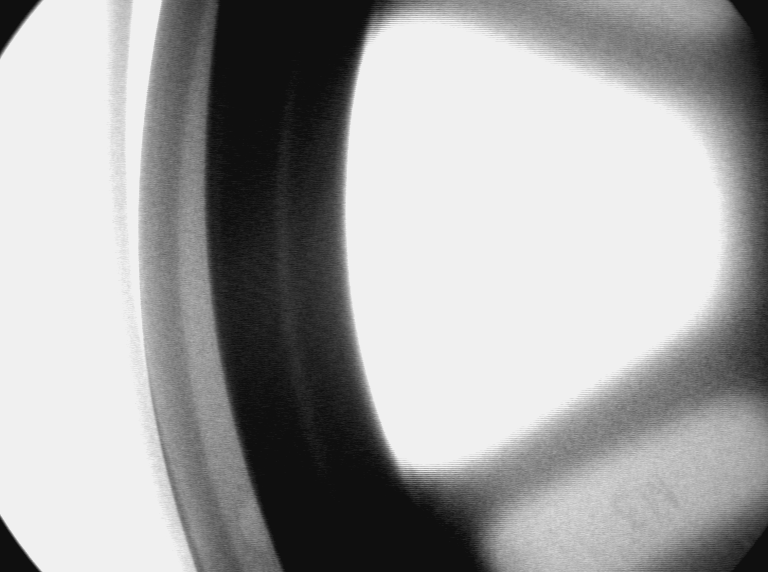defect: (237, 494, 273, 549)
